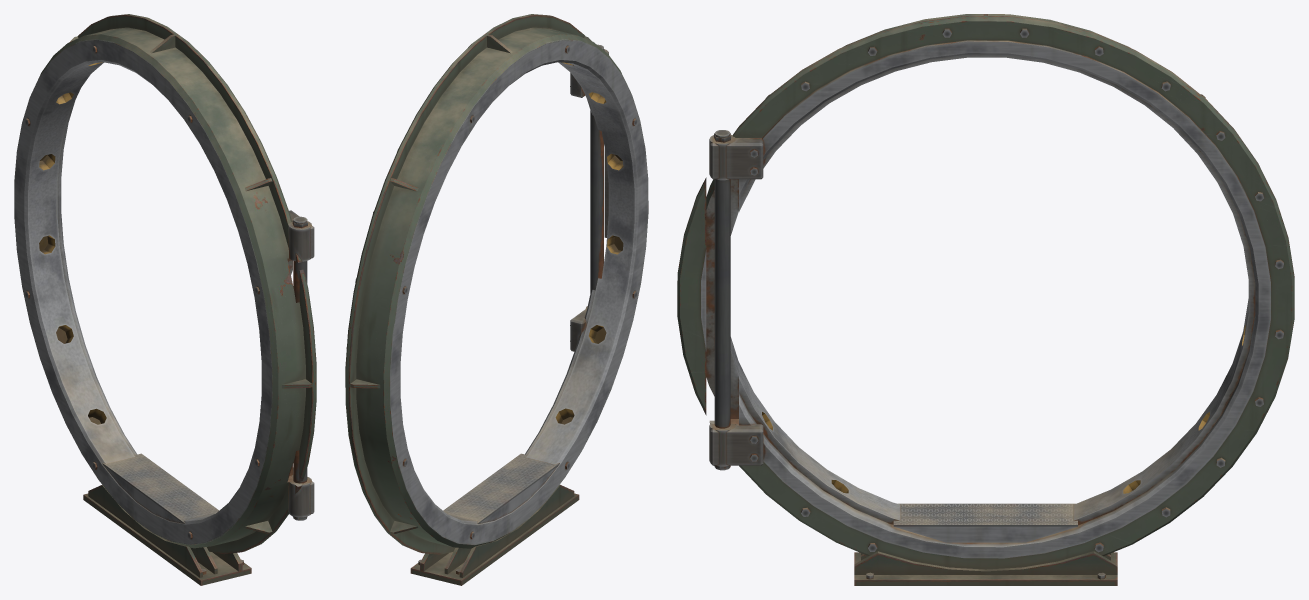
The model's file is SM_VaultDoorFrame.glb.
The picture shows the model from 3 angles, left to right: view 1: azimuth 30°, elevation 25°; view 2: azimuth 150°, elevation 25°; view 3: azimuth 270°, elevation 25°; orthographic projection. The views are drawn at different scales.
Visible parts, largest first — view 1: SM_VaultDoorFrame; view 2: SM_VaultDoorFrame; view 3: SM_VaultDoorFrame.
Boxes of the visible parts, bbox=[...] form: SM_VaultDoorFrame: bbox=[14, 14, 316, 585]; SM_VaultDoorFrame: bbox=[345, 14, 648, 585]; SM_VaultDoorFrame: bbox=[677, 14, 1294, 585].
Size of the model in its own units: 0.517 by 4.69 by 4.69.
Materials: 1 (1 with a texture image).
